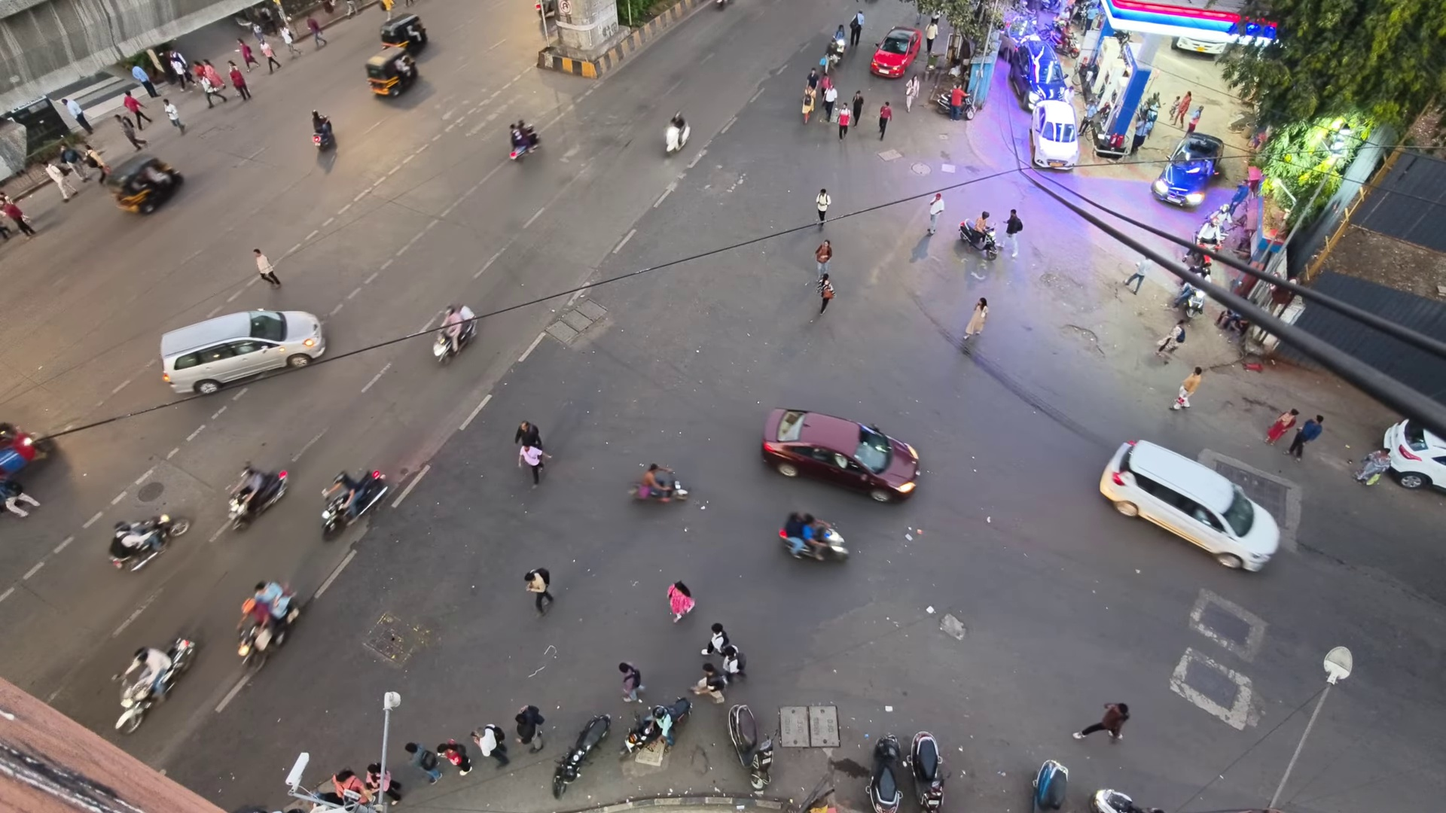walking: (1073, 702, 1128, 739), (1286, 415, 1323, 461), (472, 724, 509, 768), (404, 742, 441, 783), (331, 769, 374, 804), (0, 479, 39, 517), (364, 763, 401, 803), (514, 705, 545, 752), (693, 663, 728, 703), (518, 444, 550, 487), (1171, 367, 1202, 410), (0, 198, 35, 236), (526, 568, 554, 614), (45, 161, 76, 202), (437, 740, 471, 775), (667, 581, 695, 623), (1157, 319, 1184, 362), (1265, 409, 1298, 444), (963, 297, 987, 344), (122, 91, 151, 129), (253, 248, 281, 287), (62, 99, 93, 133), (618, 662, 645, 701), (59, 145, 88, 181), (1124, 257, 1152, 294), (83, 143, 110, 181), (198, 74, 227, 108), (700, 623, 729, 655), (169, 52, 193, 90), (721, 644, 746, 678), (228, 61, 250, 99), (132, 65, 158, 97), (1005, 209, 1022, 257), (163, 99, 185, 134), (514, 421, 542, 448), (201, 59, 225, 89), (259, 41, 281, 73), (1129, 119, 1149, 154), (817, 273, 834, 314), (1171, 91, 1191, 125), (238, 38, 258, 71), (928, 193, 944, 234), (280, 25, 301, 55), (815, 239, 832, 276), (308, 15, 326, 48), (816, 188, 831, 227), (950, 82, 965, 120), (823, 83, 837, 123), (801, 87, 816, 123), (905, 74, 919, 111), (879, 102, 892, 140), (924, 20, 938, 55), (850, 11, 863, 47), (838, 106, 852, 139), (851, 90, 864, 125), (1186, 105, 1202, 132), (380, 0, 394, 21), (252, 22, 264, 43), (807, 69, 819, 89), (346, 0, 358, 18)
